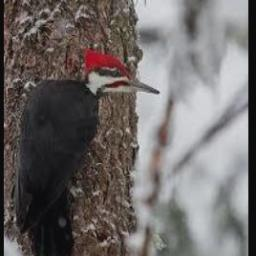Woodpecker: (21, 48, 160, 256)
